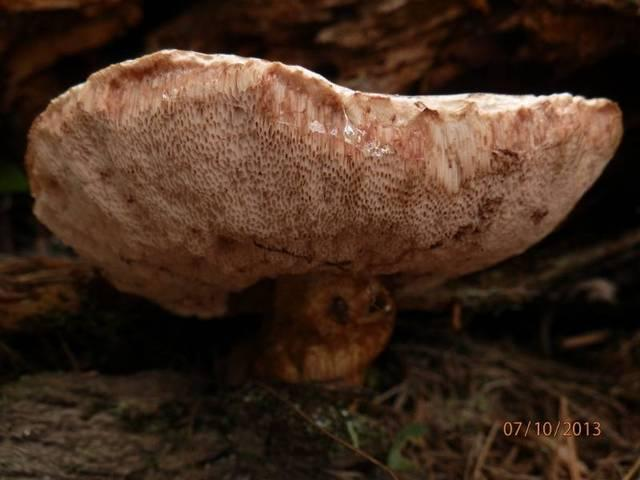poisonous_mushroom: (22, 46, 624, 390)
